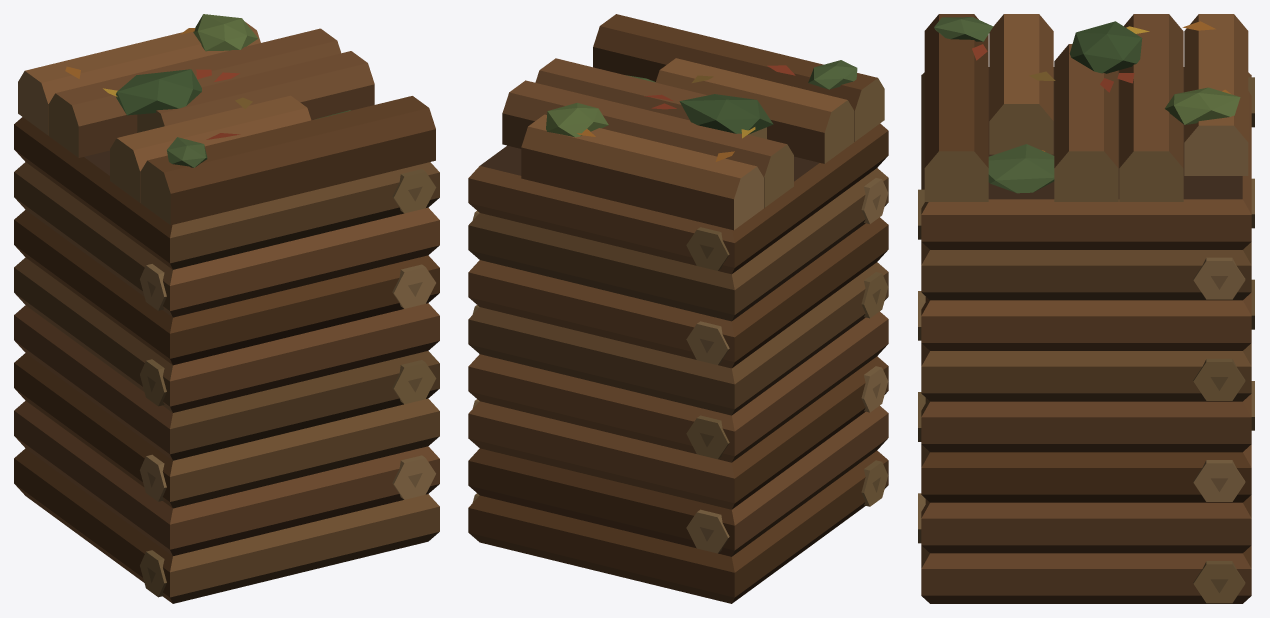
File: parede_madeira_1.glb
3 renders of one model, left to right at view 1: azimuth 30°, elevation 25°; view 2: azimuth 150°, elevation 25°; view 3: azimuth 270°, elevation 25°, orthographic. The views are drawn at different scales.
Parts seen in each view (by area): view 1: parede_madeira_1.001; view 2: parede_madeira_1.001; view 3: parede_madeira_1.001.
Boxes of the visible parts, x1=… form: parede_madeira_1.001: x1=14, y1=14, x2=439, y2=603; parede_madeira_1.001: x1=468, y1=14, x2=888, y2=603; parede_madeira_1.001: x1=918, y1=14, x2=1254, y2=603.
Bounding box in the file's own units: 1.67 × 2.58 × 1.67.
